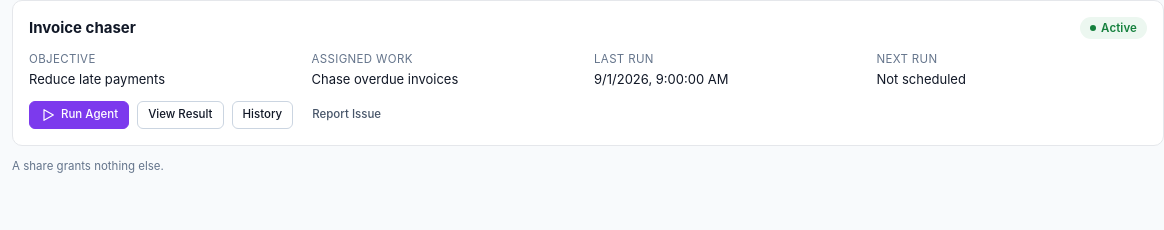
Test case: MyEngineAgents › runs the agent through the run route and says the run started
Click the button with test id "operator-run" at (79, 114), box [29,100,129,128]
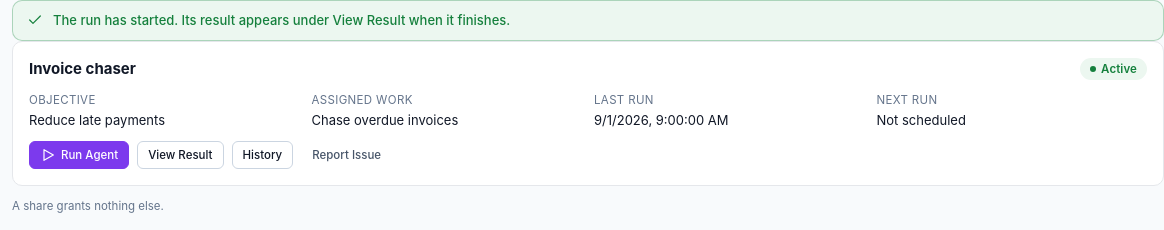
Expected: the text "run has started" is shown, [53,12,510,28]
